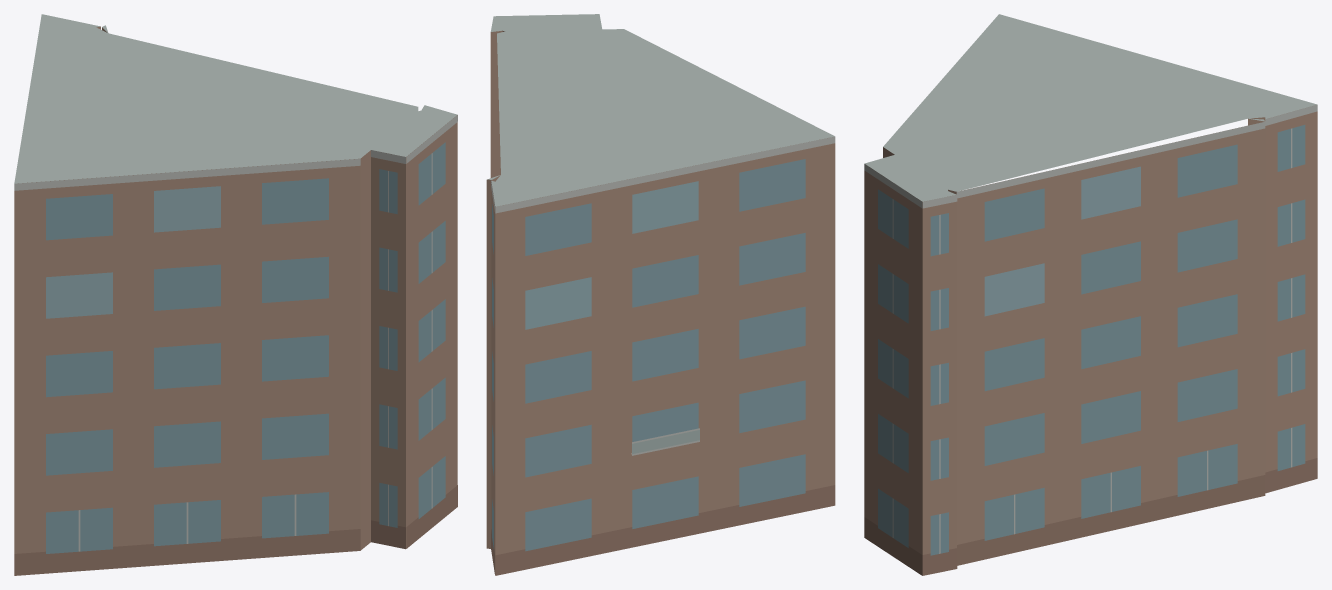
File: survey-upis-32937426.glb
3 views of the same model, side by side, from view 1: azimuth 30°, elevation 25°; view 2: azimuth 150°, elevation 25°; view 3: azimuth 270°, elevation 25° (orthographic). The views are drawn at different scales.
Parts seen in each view (by area): view 1: survey-upis-32937426.tmp; view 2: survey-upis-32937426.tmp; view 3: survey-upis-32937426.tmp.
Boxes of the visible parts, x1,y1,x2,y2 form: survey-upis-32937426.tmp: (14, 14, 457, 575); survey-upis-32937426.tmp: (486, 14, 835, 575); survey-upis-32937426.tmp: (864, 14, 1317, 575).
Size of the model in its own units: 14.43 by 13.4 by 14.72.
